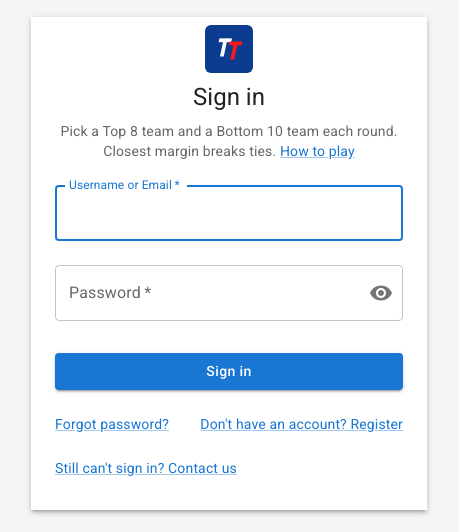
Scenario: a wait is passed on in the server's words
This screenshot has width=459, height=532.
In the field labelled "Username or Email *": (229, 213) [55,185,403,241], type "ann"
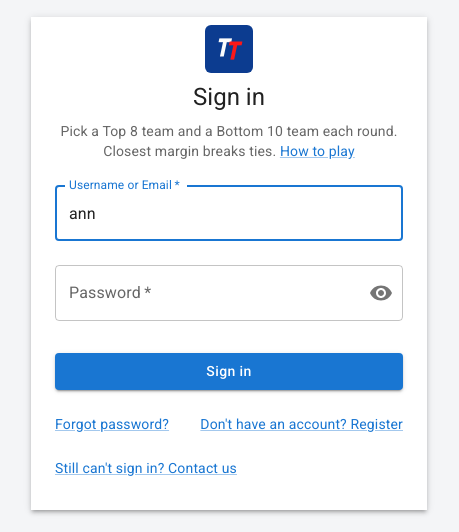
In the password field labelled "Password *": (204, 293) [55,265,353,321], type "Passw0rd1"
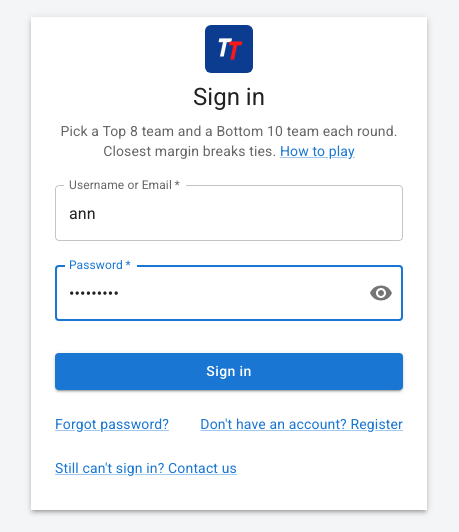
Click the button "Sign in": (229, 371) [55,353,403,390]
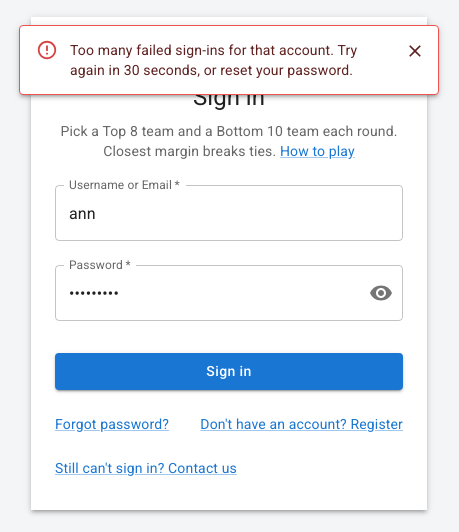
Expected: the text "Try again in 30 seconds" is shown, [70,42,357,78]
